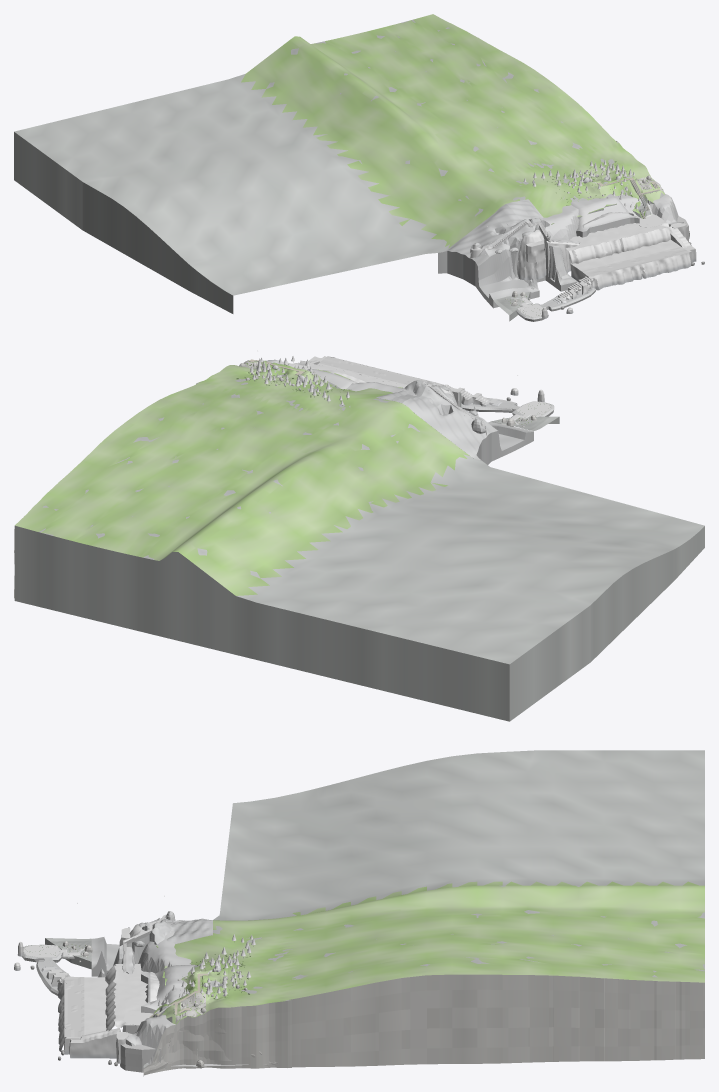
File: retreat_geography_stone.glb
3 renders of one model, top to bottom at view 1: azimuth 30°, elevation 25°; view 2: azimuth 150°, elevation 25°; view 3: azimuth 270°, elevation 25°, orthographic. The views are drawn at different scales.
Parts seen in each view (by area): view 1: SAL4__a1:coastal-cliff-v10, SAL3__a1:earth-v6, StoneS3__StoneContact:a1:coastal-cliff-v10, SAL1__a1:coastal-cliff-v10, Geo11__a1:coastal-cliff-v10, SAL2R__a1:earth-v6, SAL3__a1:coastal-cliff-v10, Geo12__a1:coastal-cliff-v10, P3Terrain__a1:coastal-cliff-v10, SAL2R__a1:painted-foliage-sage-v6, Geo14__a1:coastal-cliff-v10, SAL2R__a1:coastal-cliff-v10; view 2: SAL4__a1:coastal-cliff-v10, SAL3__a1:earth-v6, SAL1__a1:coastal-cliff-v10, StoneS3__StoneContact:a1:coastal-cliff-v10, P3Terrain__a1:coastal-cliff-v10, SAL2R__a1:painted-foliage-sage-v6, SAL2R__a1:earth-v6, Geo14__a1:coastal-cliff-v10; view 3: SAL4__a1:coastal-cliff-v10, SAL3__a1:earth-v6, SAL3__a1:coastal-cliff-v10, StoneS3__StoneContact:a1:coastal-cliff-v10, SAL1__a1:coastal-cliff-v10, P3Terrain__a1:coastal-cliff-v10, Geo12__a1:coastal-cliff-v10, SAL2R__a1:earth-v6, Geo11__a1:coastal-cliff-v10, V5Coast__a1:coastal-cliff-v10, SAL2R__a1:painted-foliage-sage-v6, P3Terrain__a1:earth-v6 (+1 smaller).
Boxes of the visible parts, x1=… form: SAL4__a1:coastal-cliff-v10: x1=14, y1=19, x2=689, y2=321; SAL3__a1:earth-v6: x1=241, y1=14, x2=664, y2=248; StoneS3__StoneContact:a1:coastal-cliff-v10: x1=517, y1=220, x2=696, y2=318; SAL1__a1:coastal-cliff-v10: x1=438, y1=199, x2=577, y2=308; Geo11__a1:coastal-cliff-v10: x1=571, y1=194, x2=639, y2=242; SAL2R__a1:earth-v6: x1=578, y1=168, x2=659, y2=218; SAL3__a1:coastal-cliff-v10: x1=615, y1=141, x2=689, y2=236; Geo12__a1:coastal-cliff-v10: x1=507, y1=205, x2=579, y2=243; P3Terrain__a1:coastal-cliff-v10: x1=520, y1=224, x2=689, y2=317; SAL2R__a1:painted-foliage-sage-v6: x1=523, y1=160, x2=640, y2=209; Geo14__a1:coastal-cliff-v10: x1=516, y1=288, x2=596, y2=321; SAL2R__a1:coastal-cliff-v10: x1=555, y1=162, x2=659, y2=218; SAL4__a1:coastal-cliff-v10: x1=14, y1=378, x2=704, y2=721; SAL3__a1:earth-v6: x1=15, y1=361, x2=469, y2=595; SAL1__a1:coastal-cliff-v10: x1=376, y1=380, x2=533, y2=464; StoneS3__StoneContact:a1:coastal-cliff-v10: x1=282, y1=356, x2=544, y2=406; P3Terrain__a1:coastal-cliff-v10: x1=319, y1=356, x2=546, y2=414; SAL2R__a1:painted-foliage-sage-v6: x1=250, y1=358, x2=349, y2=404; SAL2R__a1:earth-v6: x1=243, y1=359, x2=330, y2=385; Geo14__a1:coastal-cliff-v10: x1=461, y1=397, x2=554, y2=417; SAL4__a1:coastal-cliff-v10: x1=45, y1=750, x2=704, y2=1076; SAL3__a1:earth-v6: x1=156, y1=881, x2=704, y2=1060; SAL3__a1:coastal-cliff-v10: x1=126, y1=974, x2=704, y2=1075; StoneS3__StoneContact:a1:coastal-cliff-v10: x1=14, y1=924, x2=147, y2=1063; SAL1__a1:coastal-cliff-v10: x1=91, y1=911, x2=212, y2=983; P3Terrain__a1:coastal-cliff-v10: x1=28, y1=953, x2=139, y2=1037; Geo12__a1:coastal-cliff-v10: x1=126, y1=922, x2=191, y2=974; SAL2R__a1:earth-v6: x1=149, y1=967, x2=227, y2=1017; Geo11__a1:coastal-cliff-v10: x1=141, y1=964, x2=195, y2=1013; V5Coast__a1:coastal-cliff-v10: x1=30, y1=965, x2=160, y2=1072; SAL2R__a1:painted-foliage-sage-v6: x1=158, y1=934, x2=255, y2=1006; P3Terrain__a1:earth-v6: x1=23, y1=945, x2=152, y2=1025.
Bounding box in the file's own units: 376 × 61.5 × 410.
